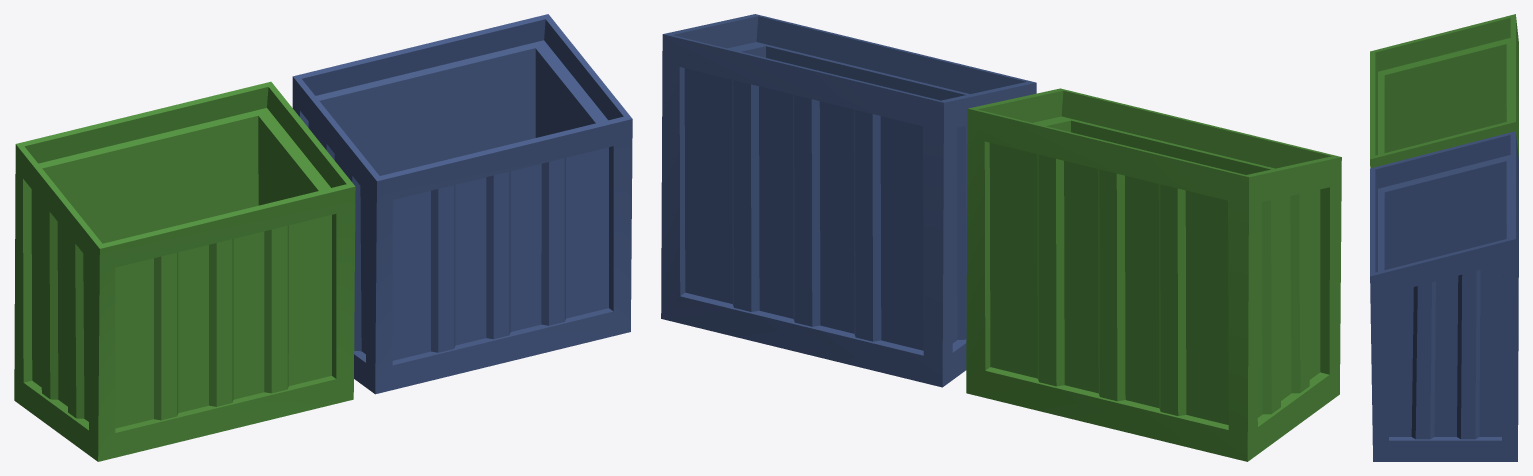
File: 36 Bins.fbx
3 renders of one model, left to right at view 1: azimuth 30°, elevation 25°; view 2: azimuth 150°, elevation 25°; view 3: azimuth 270°, elevation 25°, orthographic. The views are drawn at different scales.
Parts seen in each view (by area): view 1: Bin_11; view 2: Bin_11; view 3: Bin_11.
Boxes of the visible parts, x1,y1,x2,y2 form: Bin_11: (14,14,632,461); Bin_11: (661,14,1341,461); Bin_11: (1370,14,1518,461).
Size of the model in its own units: 67.7 by 31.28 by 18.93.
